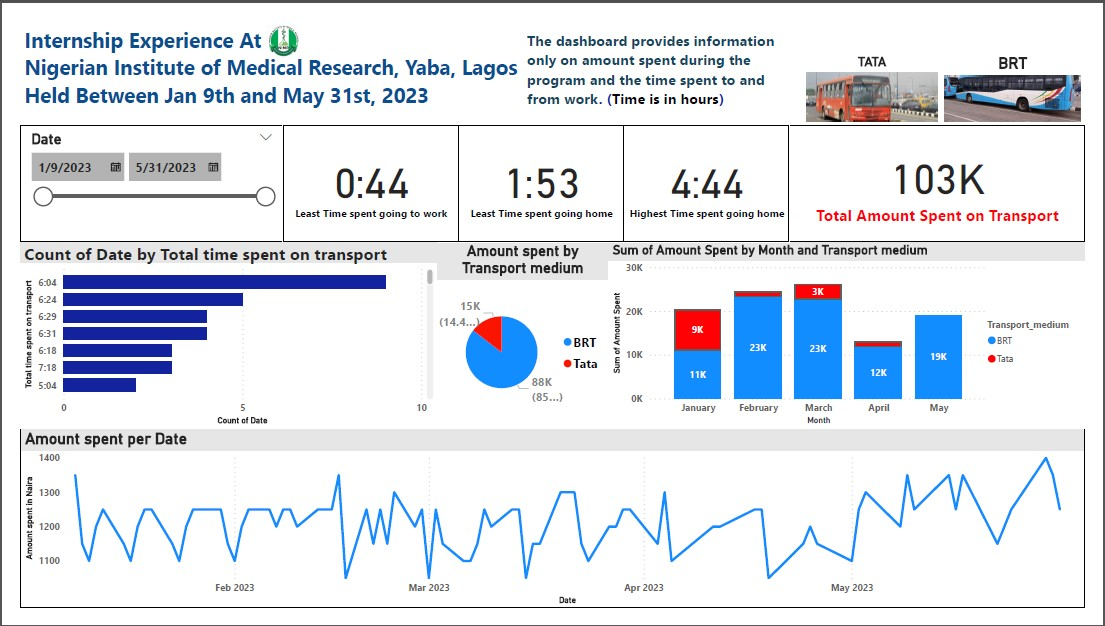

Layout of this report page (visuals, bound fields, positions):
{"tool":"powerbi","page":{"name":"Page 1","canvas":[1380,760],"ordinal":0},"visuals":[{"type":"textbox","box":[0,0,651.7,135],"z":0},{"type":"image","title":"TATA","box":[1015.4,41.5,178.5,93.8],"z":1000},{"type":"image","title":"BRT","box":[1193.8,41.5,186.2,93.8],"z":2000},{"type":"slicer","fields":{"Values":["IT daily Transport Data.Date"]},"box":[0,135.4,340,150.8],"z":3000},{"type":"lineChart","title":"Amount spent per Date","fields":{"Y":["Sum(IT daily Transport Data.Amount_spent)"],"Category":["IT daily Transport Data.Date"]},"box":[0,527.7,1380,232.3],"z":4000},{"type":"pieChart","title":"Amount spent by Transport medium","fields":{"Y":["Sum(IT daily Transport Data.Amount_spent)"],"Category":["IT daily Transport Data.Transport_medium"]},"box":[540,286.2,223.1,241.5],"z":5000},{"type":"card","fields":{"Values":["Sum(IT daily Transport Data.Amount_spent)"]},"box":[996.9,135.4,383.1,150.8],"z":6000},{"type":"columnChart","title":"Sum of Amount Spent by Month and Transport medium","fields":{"Category":["IT daily Transport Data.Date.Variation.Date Hierarchy.Month"],"Y":["Sum(IT daily Transport Data.Amount_spent)"],"Series":["IT daily Transport Data.Transport_medium"]},"box":[763.1,286.2,616.9,241.5],"z":7000},{"type":"card","fields":{"Values":["Min(IT daily Transport Data.Time spent going to work)"]},"box":[340,135.4,227.7,150.8],"z":8000},{"type":"barChart","fields":{"Category":["IT daily Transport Data.Total time spent on transport"],"Y":["Count(IT daily Transport Data.Date)"]},"box":[0,286.2,540,241.5],"z":9000},{"type":"card","fields":{"Values":["Min(IT daily Transport Data.Time spent going home)"]},"box":[567.7,135.4,213.8,150.8],"z":10000},{"type":"card","fields":{"Values":["Max(IT daily Transport Data.Time spent going home)"]},"box":[781.5,135.4,215.4,150.8],"z":11000},{"type":"image","box":[291.7,0,96.7,53.3],"z":12000},{"type":"textbox","box":[651.7,6.7,363.3,115],"z":13000}]}

Visuals, with their boxes in screenshot pixels (x1, y1, x2, y2), scaled from the page's 1380x760 canvas onto the 1105x626 screenshot:
textbox: (x1=0, y1=0, x2=522, y2=111)
"TATA" image: (x1=813, y1=34, x2=956, y2=111)
"BRT" image: (x1=956, y1=34, x2=1104, y2=111)
slicer - IT daily Transport Data.Date: (x1=0, y1=112, x2=272, y2=236)
"Amount spent per Date" lineChart: (x1=0, y1=435, x2=1104, y2=625)
"Amount spent by Transport medium" pieChart: (x1=432, y1=236, x2=611, y2=435)
card - Sum(IT daily Transport Data.Amount_spent): (x1=798, y1=112, x2=1104, y2=236)
"Sum of Amount Spent by Month and Transport medium" columnChart: (x1=611, y1=236, x2=1104, y2=435)
card - Min(IT daily Transport Data.Time spent going to work): (x1=272, y1=112, x2=455, y2=236)
barChart - IT daily Transport Data.Total time spent on transport x Count(IT daily Transport Data.Date): (x1=0, y1=236, x2=432, y2=435)
card - Min(IT daily Transport Data.Time spent going home): (x1=455, y1=112, x2=626, y2=236)
card - Max(IT daily Transport Data.Time spent going home): (x1=626, y1=112, x2=798, y2=236)
image: (x1=234, y1=0, x2=311, y2=44)
textbox: (x1=522, y1=6, x2=813, y2=100)
